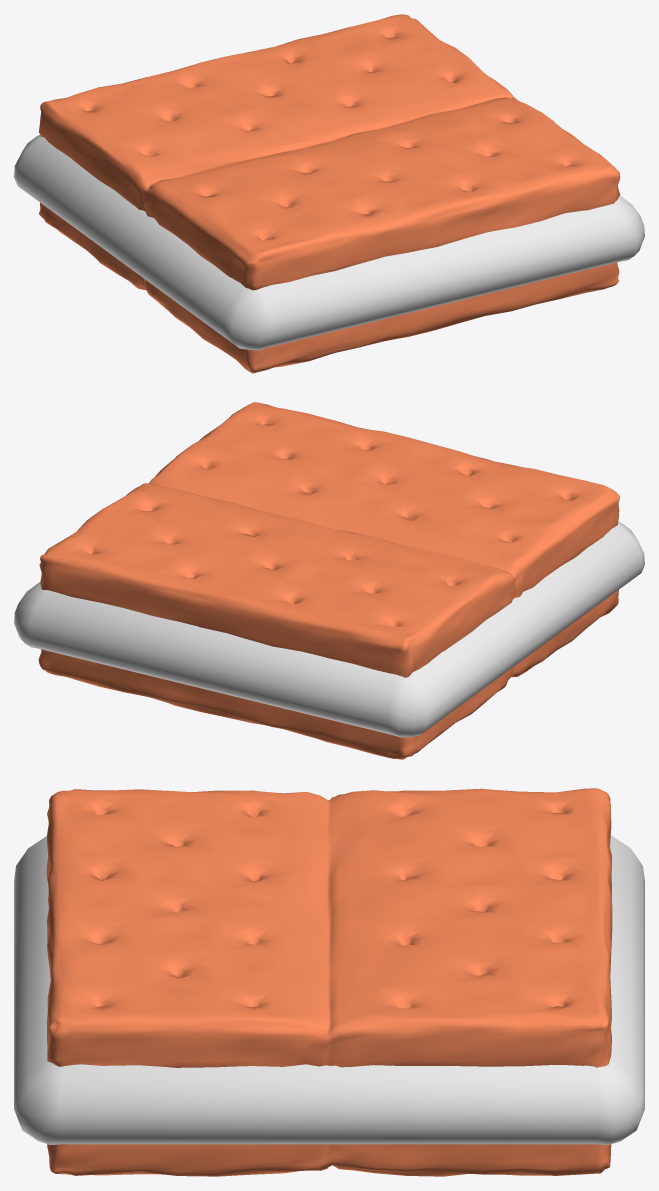
The model's file is smore.fbx.
3 renders of one model, top to bottom at view 1: azimuth 30°, elevation 25°; view 2: azimuth 150°, elevation 25°; view 3: azimuth 270°, elevation 25°, orthographic. The views are drawn at different scales.
Parts seen in each view (by area): view 1: Roundcube.002, Roundcube.001, Roundcube.003; view 2: Roundcube.002, Roundcube.001, Roundcube.003; view 3: Roundcube.002, Roundcube.001, Roundcube.003.
Boxes of the visible parts, box(x1,y1,x2,y2) form: Roundcube.002: box(39, 14, 620, 290); Roundcube.001: box(14, 135, 644, 350); Roundcube.003: box(39, 202, 619, 373); Roundcube.002: box(39, 402, 619, 677); Roundcube.001: box(14, 521, 644, 737); Roundcube.003: box(38, 590, 618, 759); Roundcube.002: box(46, 788, 612, 1067); Roundcube.001: box(14, 835, 644, 1144); Roundcube.003: box(47, 1144, 611, 1176).
Bounding box in the file's own units: 569 × 161 × 569.
